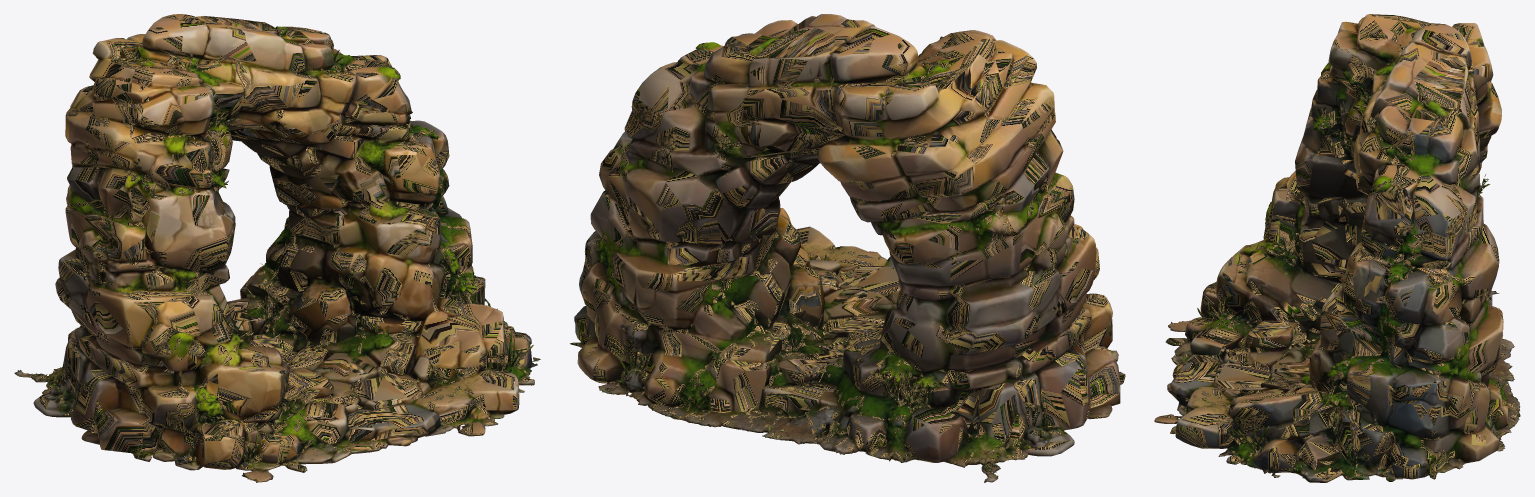
Rendered from Rocky_Archway.glb.
3 views of the same model, side by side, from view 1: azimuth 30°, elevation 25°; view 2: azimuth 150°, elevation 25°; view 3: azimuth 270°, elevation 25° (orthographic). The views are drawn at different scales.
Visible parts, largest first — view 1: Rocky_Archway; view 2: Rocky_Archway; view 3: Rocky_Archway.
Boxes of the visible parts, x1=… form: Rocky_Archway: x1=14, y1=14, x2=540, y2=482; Rocky_Archway: x1=570, y1=14, x2=1125, y2=482; Rocky_Archway: x1=1154, y1=14, x2=1520, y2=482.
Size of the model in its own units: 1.9 by 1.4 by 1.45.
1 material, 1 textured.
